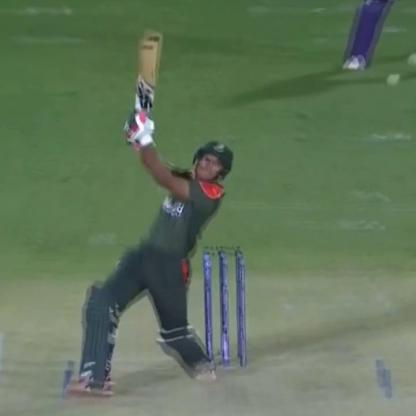ball: (382, 71, 401, 90), (406, 52, 416, 70)
bat: (132, 22, 166, 140)
